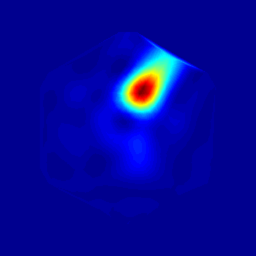ship: (110, 99, 141, 135)
wave: (125, 66, 157, 114)
